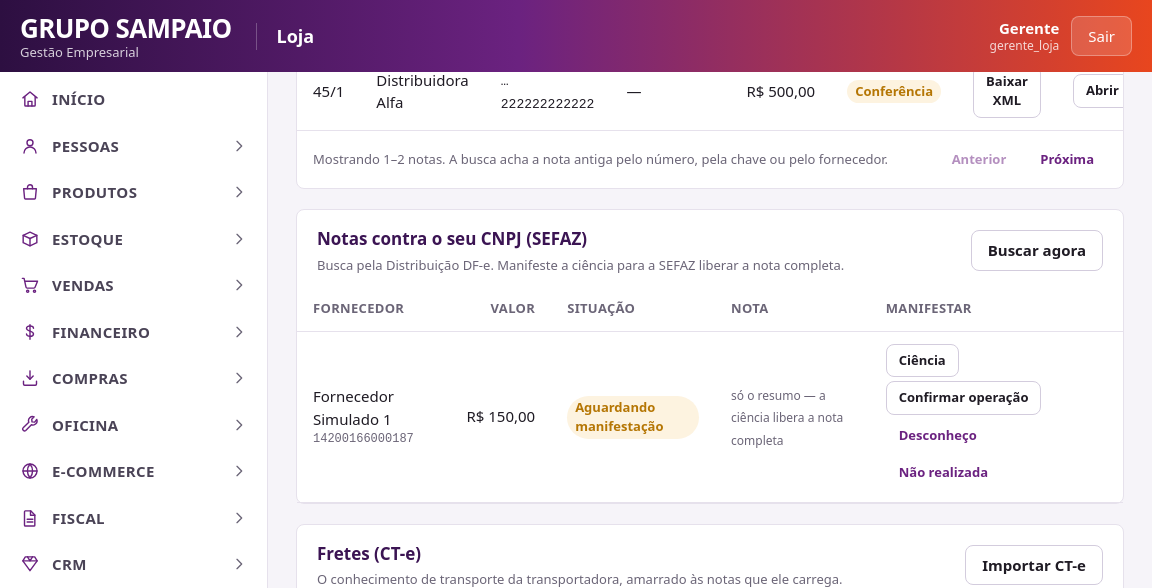
o radar da SEFAZ › ciência manda o tipo certo e o resumo vira nota importável
(page scrolled)
Check: the text "Fornecedor Simulado 1" is shown, box [313,386,394,428]
Check: the text "só o resumo — a ciência libera a nota completa" is shown, box [731,387,843,449]
Step 1. Click the button "Ciência" → (922, 360), box [886,344,959,377]
(page scrolled)
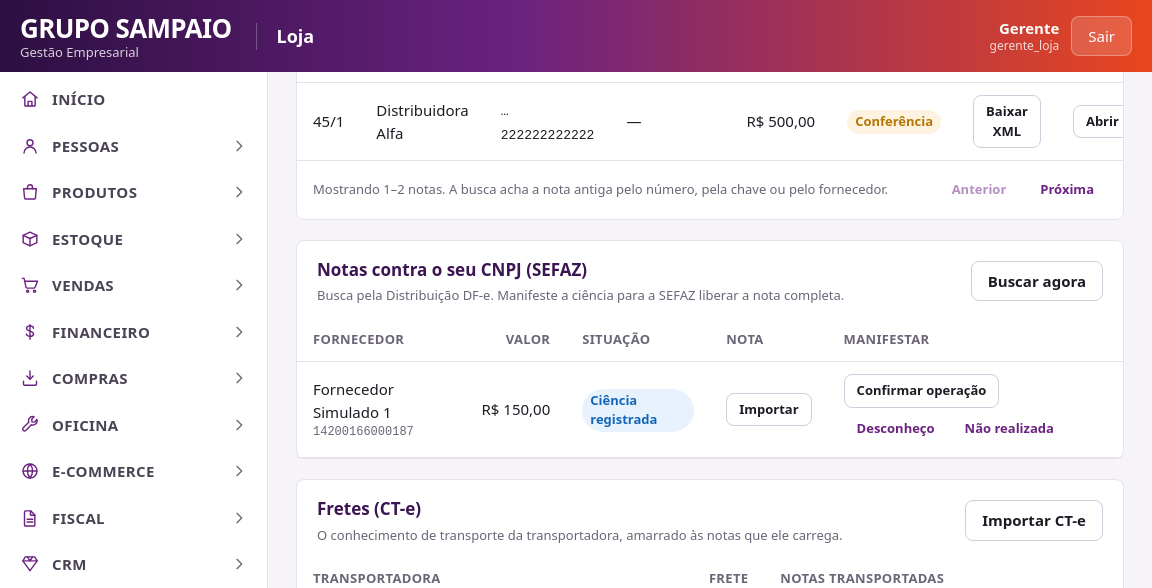
# A tela recarregou: agora dá para importar.
Step 2. Click the button "Importar" → (769, 410), box [726,393,812,426]
(page scrolled)
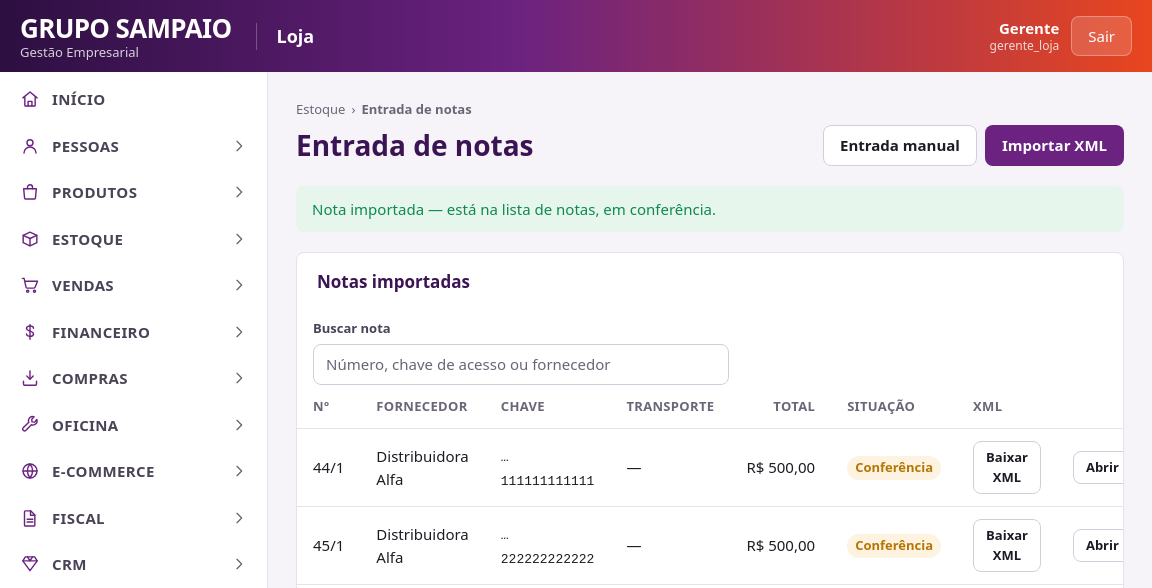
Check: the text "Nota importada — está na lista de notas, em conferência." is shown, box [296,186,1124,232]
